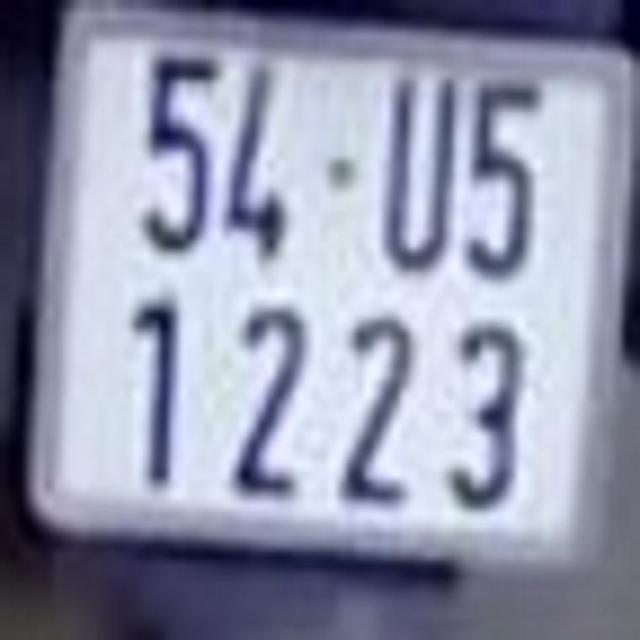1: (125, 284, 187, 491)
2: (224, 290, 307, 496), (341, 306, 414, 512)
3: (449, 316, 519, 514)
4: (222, 45, 286, 262)
5: (461, 53, 543, 280), (143, 44, 218, 252)
U: (377, 58, 458, 269)
